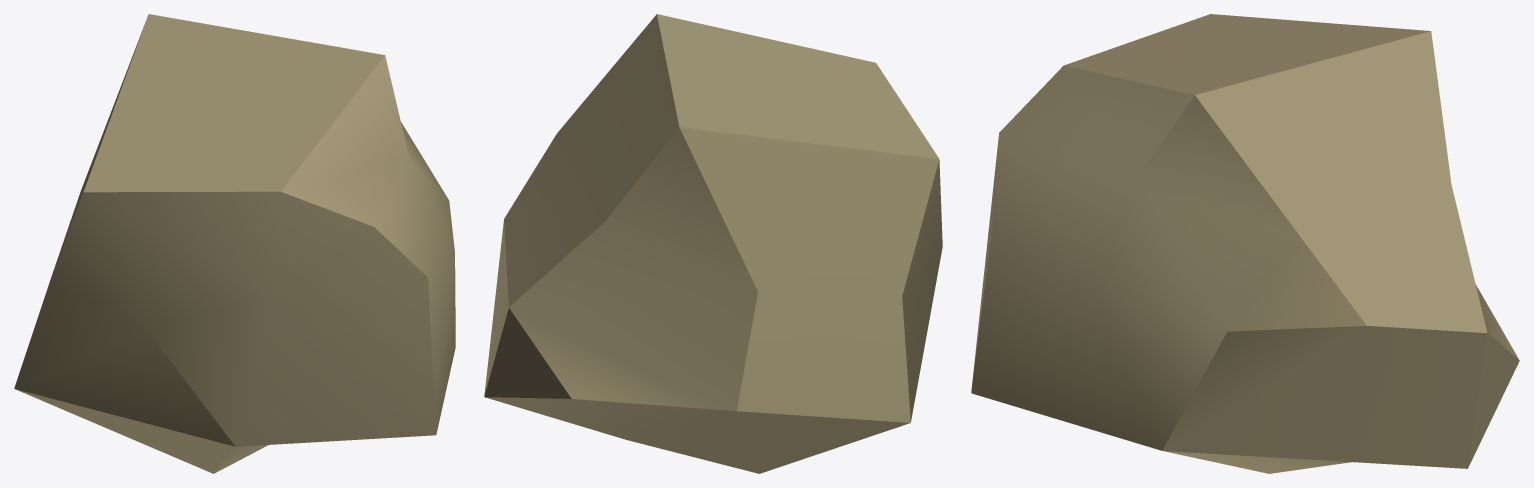
File: rock_5.fbx
The picture shows the model from 3 angles, left to right: view 1: azimuth 30°, elevation 25°; view 2: azimuth 150°, elevation 25°; view 3: azimuth 270°, elevation 25°; orthographic projection. The views are drawn at different scales.
Parts seen in each view (by area): view 1: rock_5; view 2: rock_5; view 3: rock_5.
Part boxes in pixels (bbox=[...]): rock_5: bbox=[14, 14, 455, 473]; rock_5: bbox=[484, 14, 942, 473]; rock_5: bbox=[971, 14, 1519, 473].
Size of the model in its own units: 2.06 by 2.05 by 2.25.
